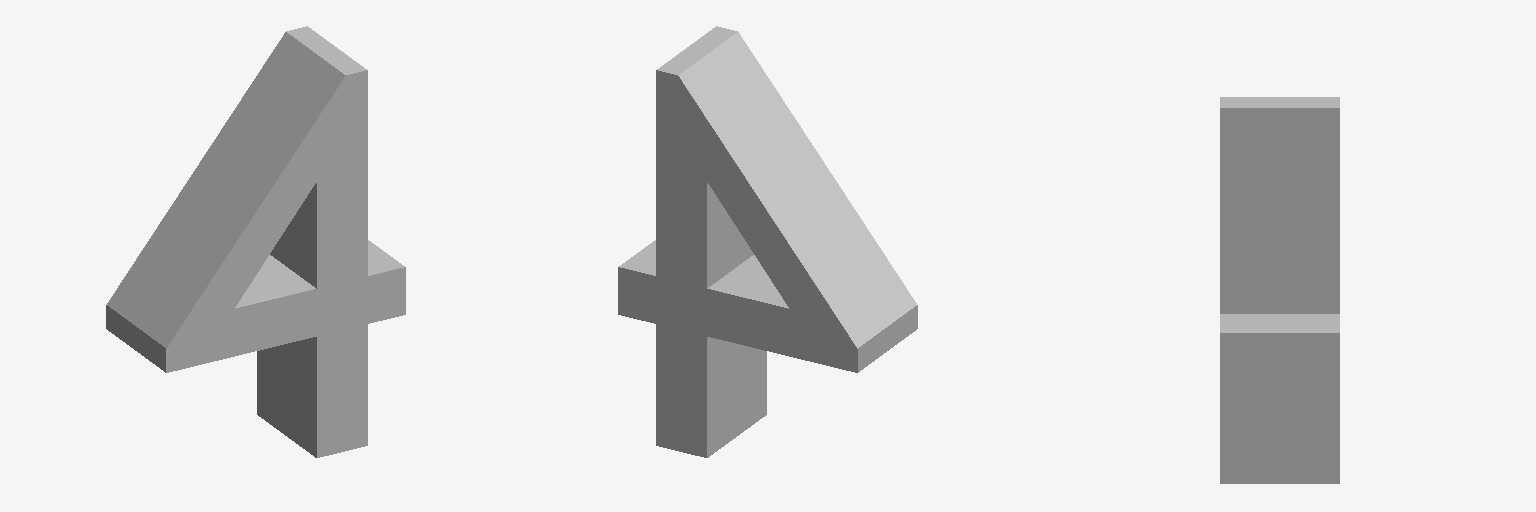
The model's file is fourNoHyph.obj.
The picture shows the model from 3 angles: view 1: azimuth 30°, elevation 25°; view 2: azimuth 150°, elevation 25°; view 3: azimuth 270°, elevation 25°; orthographic projection.
Parts seen in each view (by area): view 1: Blue_Team__Text; view 2: Blue_Team__Text; view 3: Blue_Team__Text.
Boxes of the visible parts, box(x1,y1,x2,y2) form: Blue_Team__Text: box(106, 26, 405, 457); Blue_Team__Text: box(618, 26, 917, 457); Blue_Team__Text: box(1220, 97, 1339, 483).
Bounding box in the file's own units: 0.46 × 0.691 × 0.2.